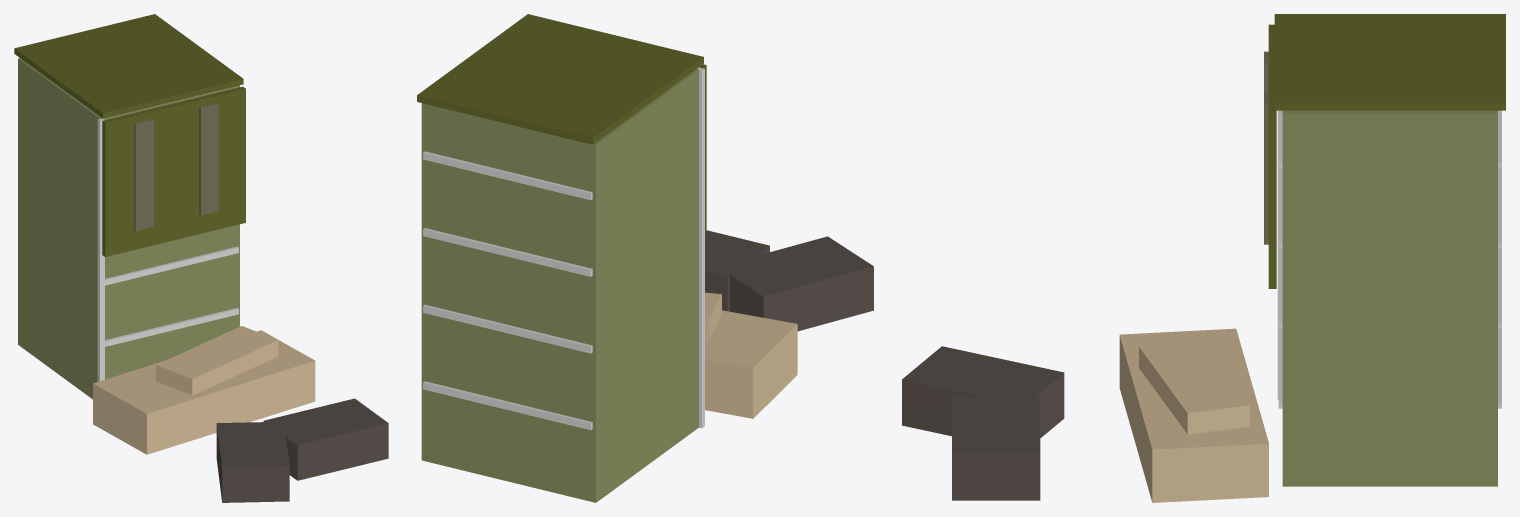
The model's file is SM_HescoCorto1_v4_Red_e1_Danado_LOD0.fbx.
3 views of the same model, side by side, from view 1: azimuth 30°, elevation 25°; view 2: azimuth 150°, elevation 25°; view 3: azimuth 270°, elevation 25° (orthographic). The views are drawn at different scales.
Parts seen in each view (by area): view 1: SM_hesco_piezas_v57_LOD0; view 2: SM_hesco_piezas_v57_LOD0; view 3: SM_hesco_piezas_v57_LOD0.
Boxes of the visible parts, x1,y1,x2,y2 form: SM_hesco_piezas_v57_LOD0: (14,14,388,502); SM_hesco_piezas_v57_LOD0: (417,14,873,502); SM_hesco_piezas_v57_LOD0: (902,14,1505,502).
Size of the model in its own units: 1.46 by 2.16 by 3.08.
